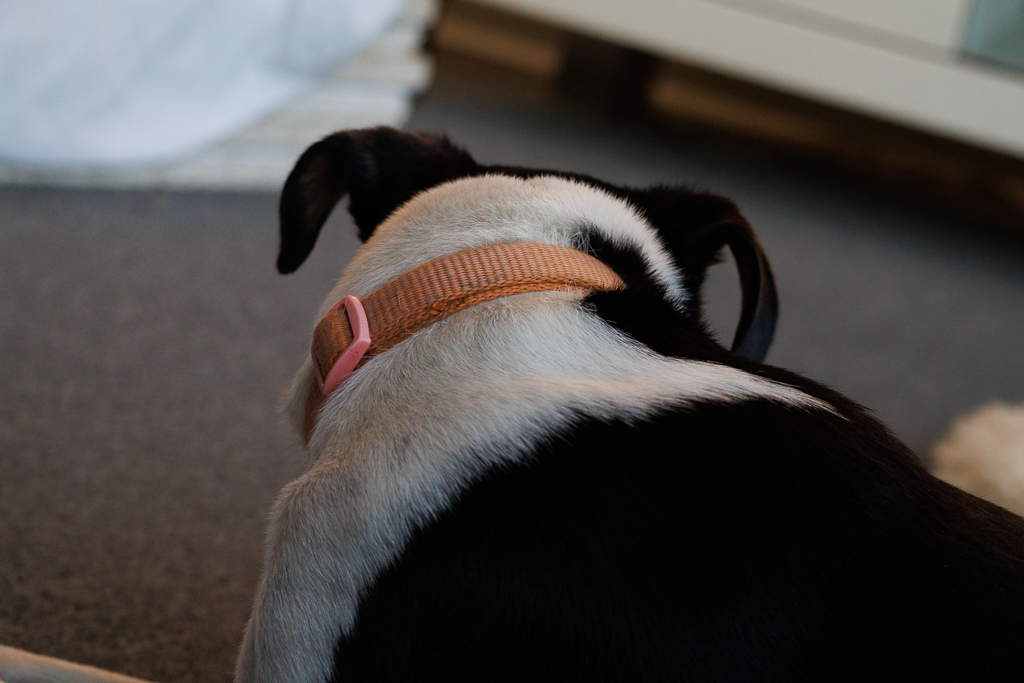Dog: (0, 119, 1024, 683)
